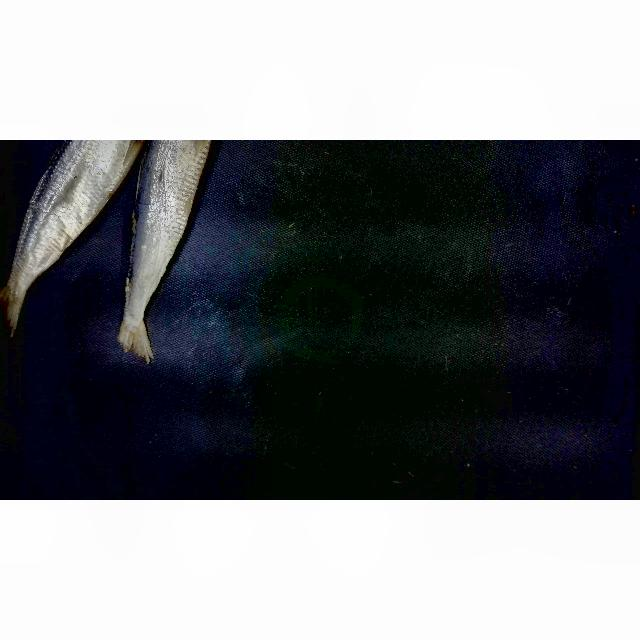Grade_A_Tail: (11, 164, 100, 348), (121, 201, 194, 382)
